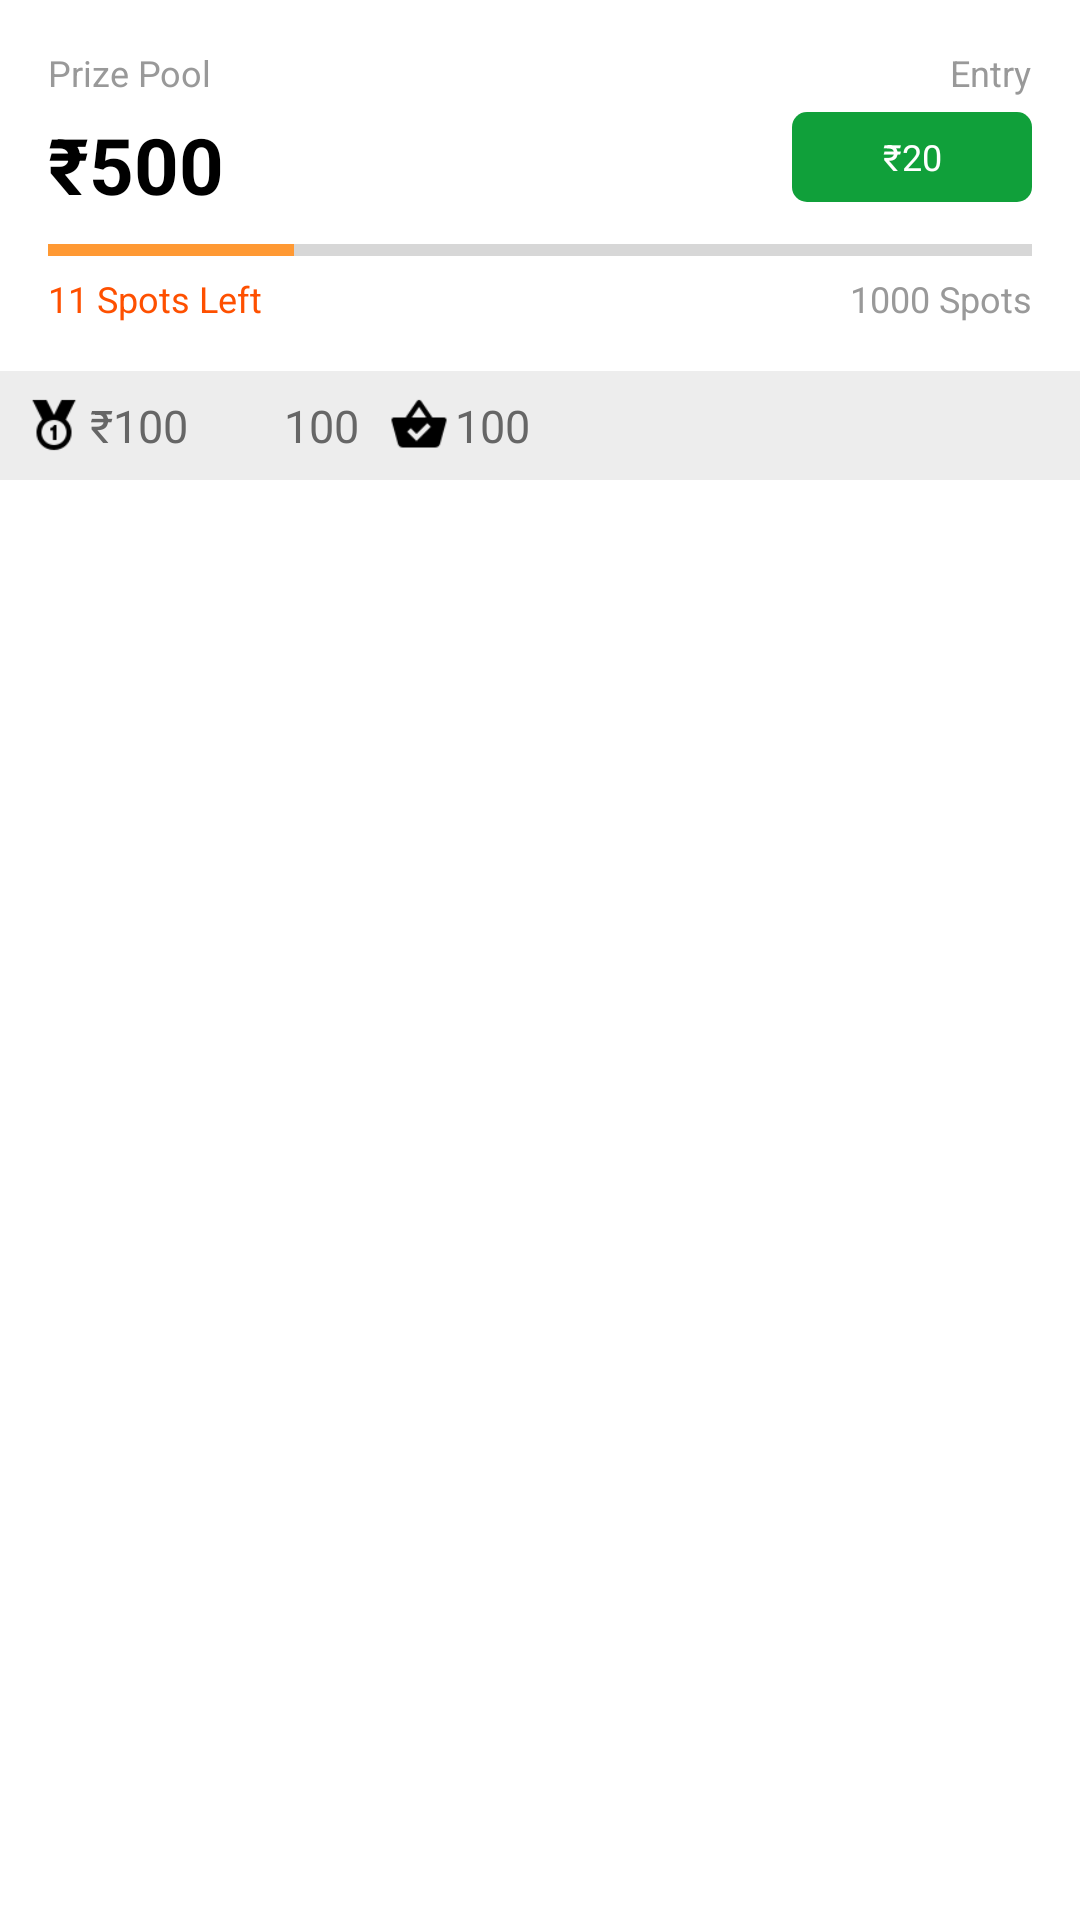

Icon click points for this 1080w x 1920h phone screenshot, format point (x, y):
first prize: point (54, 425)
total bought: point (419, 424)
